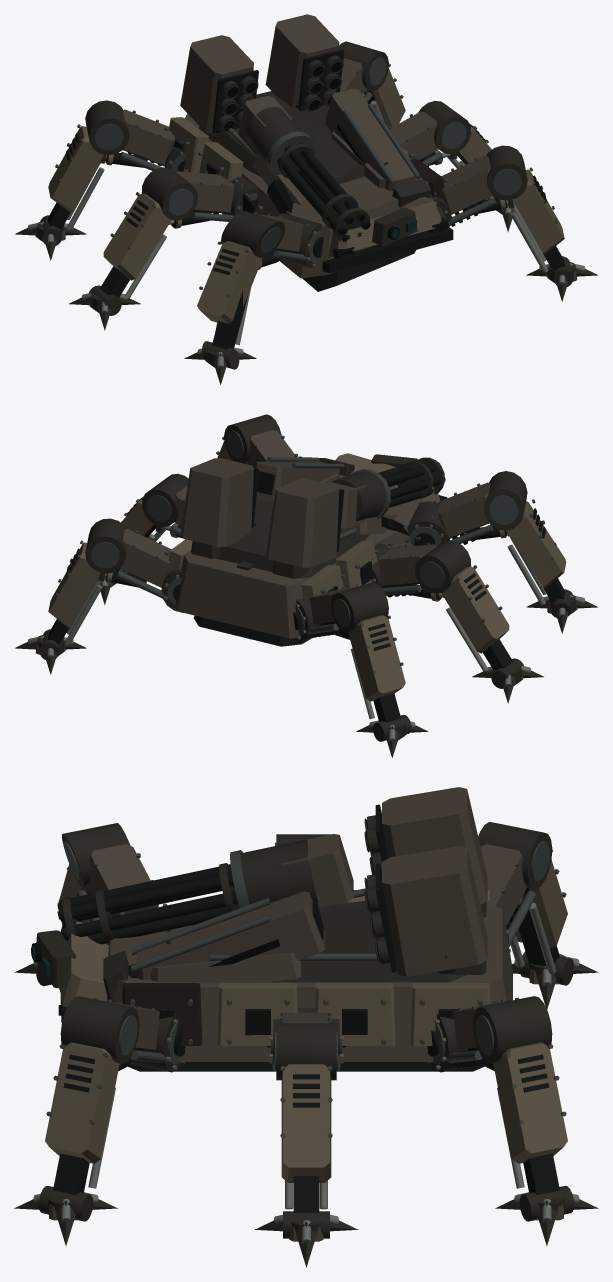
The model's file is mx06_d3_lod0.meshopt.glb.
3 renders of one model, top to bottom at view 1: azimuth 30°, elevation 25°; view 2: azimuth 150°, elevation 25°; view 3: azimuth 270°, elevation 25°, orthographic. The views are drawn at different scales.
Parts seen in each view (by area): view 1: HULL_ARMOR, SHIN_ARMOR_FL, SHIN_ARMOR_ML, MISSILE_POD_R, MISSILE_POD_L, SHIN_ARMOR_RL, LASER_CANNON, SHIN_ARMOR_FR, MINIGUN_BARRELS, MINIGUN_RECEIVER, UPPER_ARM_FR, UPPER_ARM_RL (+11 smaller); view 2: HULL_ARMOR, SHIN_ARMOR_RL, SHIN_ARMOR_ML, MISSILE_POD_L, SHIN_ARMOR_FL, MISSILE_POD_R, SHIN_ARMOR_RR, UPPER_ARM_FL, UPPER_ARM_RR, LASER_CANNON, MINIGUN_RECEIVER, SHIN_ARMOR_MR (+9 smaller); view 3: HULL_ARMOR, MISSILE_POD_R, SHIN_ARMOR_FR, SHIN_ARMOR_RR, SHIN_ARMOR_MR, LASER_CANNON, MINIGUN_BARRELS, MISSILE_POD_L, MINIGUN_RECEIVER, SHIN_ARMOR_RL, UPPER_ARM_RL, SHIN_ARMOR_FL (+9 smaller).
Boxes of the visible parts, x1,y1,x2,y2 form: HULL_ARMOR: (164, 91, 453, 291); SHIN_ARMOR_FL: (197, 211, 285, 369); SHIN_ARMOR_ML: (89, 167, 197, 315); MISSILE_POD_R: (265, 14, 344, 111); MISSILE_POD_L: (180, 35, 258, 134); SHIN_ARMOR_RL: (40, 100, 129, 245); LASER_CANNON: (325, 88, 430, 207); SHIN_ARMOR_FR: (486, 145, 573, 286); MINIGUN_BARRELS: (277, 142, 370, 241); MINIGUN_RECEIVER: (238, 96, 315, 176); UPPER_ARM_FR: (430, 156, 496, 226); UPPER_ARM_RL: (119, 109, 185, 172); HULL_ARMOR: (164, 453, 447, 646); SHIN_ARMOR_RL: (330, 582, 411, 741); SHIN_ARMOR_ML: (415, 540, 523, 688); MISSILE_POD_L: (265, 479, 344, 567); SHIN_ARMOR_FL: (483, 471, 572, 617); MISSILE_POD_R: (180, 458, 258, 546); SHIN_ARMOR_RR: (39, 518, 126, 659); UPPER_ARM_FL: (407, 482, 493, 545); UPPER_ARM_RR: (116, 529, 183, 612); LASER_CANNON: (255, 457, 354, 502); MINIGUN_RECEIVER: (324, 469, 390, 528); SHIN_ARMOR_MR: (104, 473, 188, 579); HULL_ARMOR: (58, 888, 512, 1071); MISSILE_POD_R: (364, 846, 487, 976); SHIN_ARMOR_FR: (38, 996, 139, 1221); SHIN_ARMOR_RR: (473, 996, 574, 1221); SHIN_ARMOR_MR: (275, 1023, 337, 1238); LASER_CANNON: (103, 891, 325, 1001); MINIGUN_BARRELS: (57, 863, 239, 944); MISSILE_POD_L: (364, 787, 487, 904); MINIGUN_RECEIVER: (230, 834, 353, 908); SHIN_ARMOR_RL: (478, 822, 574, 985); UPPER_ARM_RL: (480, 844, 536, 952); SHIN_ARMOR_FL: (36, 823, 130, 986).
Bounding box in the file's own units: 6.98 × 2.82 × 5.45.
